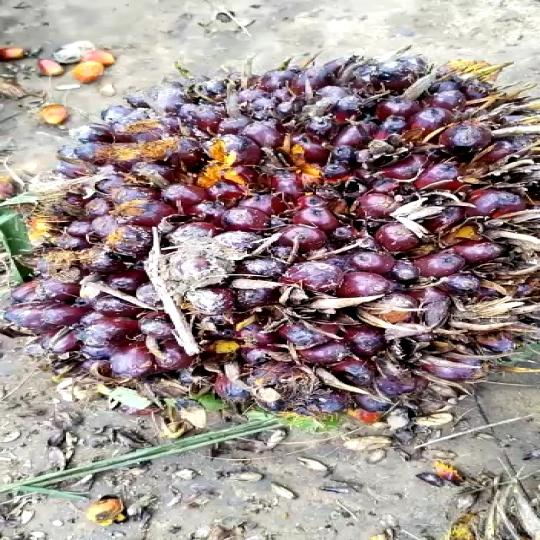masak: (0, 46, 540, 440)
